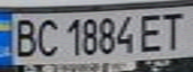1: (60, 16, 81, 56)
4: (115, 12, 142, 55)
8: (96, 15, 121, 56), (78, 15, 100, 56)
B: (6, 16, 42, 58)
C: (33, 16, 60, 57)
E: (136, 10, 169, 54)
T: (157, 9, 190, 51)
